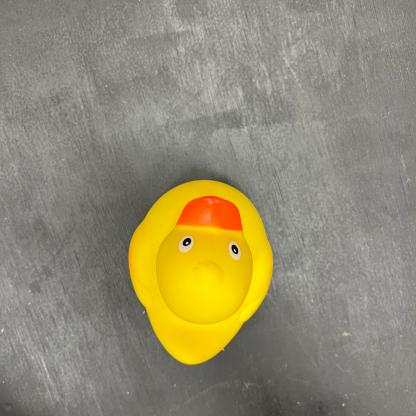duck: (127, 176, 275, 366)
